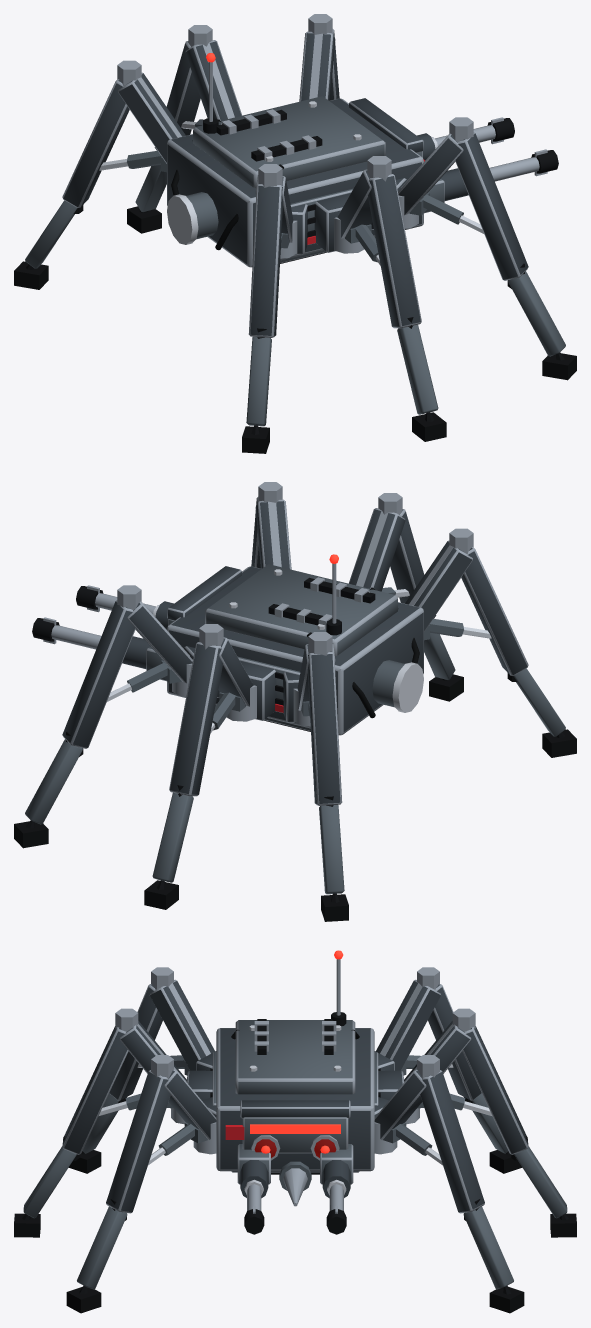
Rendered from enemigo_arana.glb.
3 views of the same model, one above another, from view 1: azimuth 30°, elevation 25°; view 2: azimuth 150°, elevation 25°; view 3: azimuth 270°, elevation 25° (orthographic). The views are drawn at different scales.
Parts seen in each view (by area): view 1: mov_pata_2, mov_pata_4, casco, mov_pata_5, lomo, mov_pata_6, mov_pata_3, mov_pata_1, ceja, aro_cola, hombrera_4, tobera (+3 smaller); view 2: mov_pata_1, mov_pata_3, casco, mov_pata_6, lomo, mov_pata_5, mov_pata_4, mov_pata_2, ceja, aro_cola, hombrera_3, tobera (+3 smaller); view 3: mov_pata_1, mov_pata_2, lomo, casco, mov_pata_3, mov_pata_4, mov_pata_5, mov_pata_6, visor_carcasa, ceja, visor_banda, funda_canon_1 (+6 smaller).
Boxes of the visible parts, x1,y1,x2,y2 form: mov_pata_2: [398, 117, 576, 380]; mov_pata_4: [334, 156, 446, 441]; casco: [167, 98, 423, 267]; mov_pata_5: [14, 60, 185, 289]; lomo: [193, 96, 385, 188]; mov_pata_6: [242, 164, 297, 453]; mov_pata_3: [127, 25, 242, 233]; mov_pata_1: [299, 14, 339, 101]; ceja: [349, 98, 423, 152]; aro_cola: [167, 194, 198, 244]; hombrera_4: [314, 193, 350, 252]; tobera: [186, 192, 218, 239]; mov_pata_1: [14, 585, 192, 848]; mov_pata_3: [144, 624, 256, 909]; casco: [167, 566, 423, 735]; mov_pata_6: [405, 528, 576, 757]; lomo: [205, 564, 397, 656]; mov_pata_5: [293, 632, 348, 921]; mov_pata_4: [348, 493, 463, 701]; mov_pata_2: [251, 482, 291, 569]; ceja: [167, 566, 241, 620]; aro_cola: [392, 662, 423, 712]; hombrera_3: [240, 661, 276, 720]; tobera: [372, 660, 404, 707]; mov_pata_1: [374, 1055, 524, 1313]; mov_pata_2: [66, 1055, 216, 1313]; lomo: [235, 1020, 355, 1094]; casco: [216, 1028, 374, 1171]; mov_pata_3: [404, 1008, 576, 1237]; mov_pata_4: [14, 1008, 186, 1237]; mov_pata_5: [375, 967, 522, 1173]; mov_pata_6: [68, 967, 215, 1173]; visor_carcasa: [242, 1117, 348, 1153]; ceja: [240, 1100, 350, 1118]; visor_banda: [250, 1124, 340, 1133]; funda_canon_1: [240, 1160, 268, 1198].
Size of the model in its own units: 0.9163 by 0.593 by 1.17.
